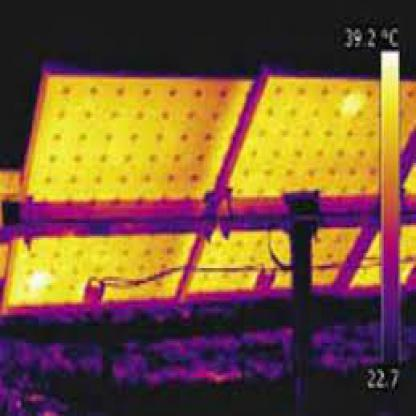Defects: (29, 268, 51, 294)
